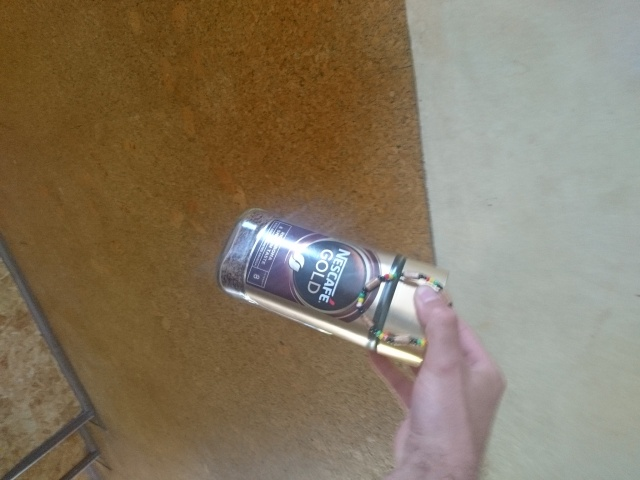Nescafe Gold 225g: (214, 205, 453, 380)
